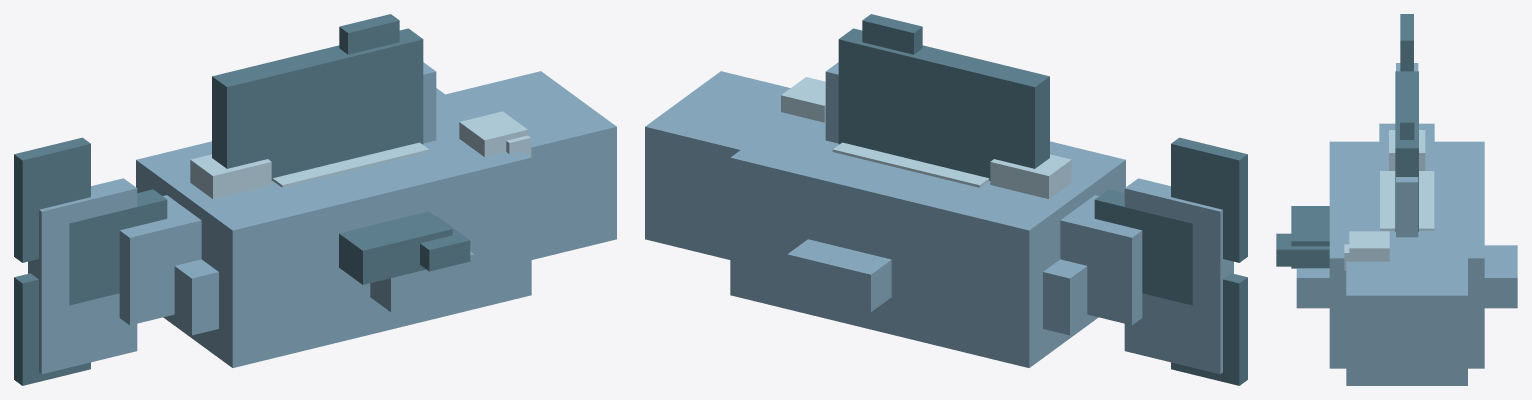
The model's file is fish_frost_jack.glb.
The picture shows the model from 3 angles, left to right: view 1: azimuth 30°, elevation 25°; view 2: azimuth 150°, elevation 25°; view 3: azimuth 270°, elevation 25°; orthographic projection. The views are drawn at different scales.
Parts seen in each view (by area): view 1: FishArt_body, FishArt_dorsal, FishArt_tail, FishArt_pectoral, FishArt_specialty, FishArt_eye; view 2: FishArt_body, FishArt_dorsal, FishArt_tail, FishArt_specialty, FishArt_eye; view 3: FishArt_body, FishArt_pectoral, FishArt_dorsal, FishArt_specialty, FishArt_eye, FishArt_tail.
Part boxes in pixels (x1=…): FishArt_body: x1=28, y1=62, x2=616, y2=374; FishArt_dorsal: x1=212, y1=14, x2=423, y2=180; FishArt_tail: x1=14, y1=137, x2=167, y2=385; FishArt_pectoral: x1=339, y1=211, x2=470, y2=284; FishArt_specialty: x1=190, y1=142, x2=429, y2=198; FishArt_eye: x1=459, y1=111, x2=531, y2=156; FishArt_body: x1=645, y1=62, x2=1233, y2=374; FishArt_dorsal: x1=838, y1=14, x2=1049, y2=180; FishArt_tail: x1=1094, y1=137, x2=1247, y2=385; FishArt_specialty: x1=832, y1=142, x2=1071, y2=198; FishArt_eye: x1=781, y1=77, x2=825, y2=122; FishArt_body: x1=1296, y1=63, x2=1517, y2=385; FishArt_pectoral: x1=1276, y1=206, x2=1329, y2=268; FishArt_dorsal: x1=1395, y1=71, x2=1418, y2=231; FishArt_specialty: x1=1380, y1=130, x2=1434, y2=230; FishArt_eye: x1=1344, y1=231, x2=1389, y2=270; FishArt_tail: x1=1400, y1=14, x2=1413, y2=71.
Size of the model in its own units: 0.3091 by 0.1442 by 0.1439.
